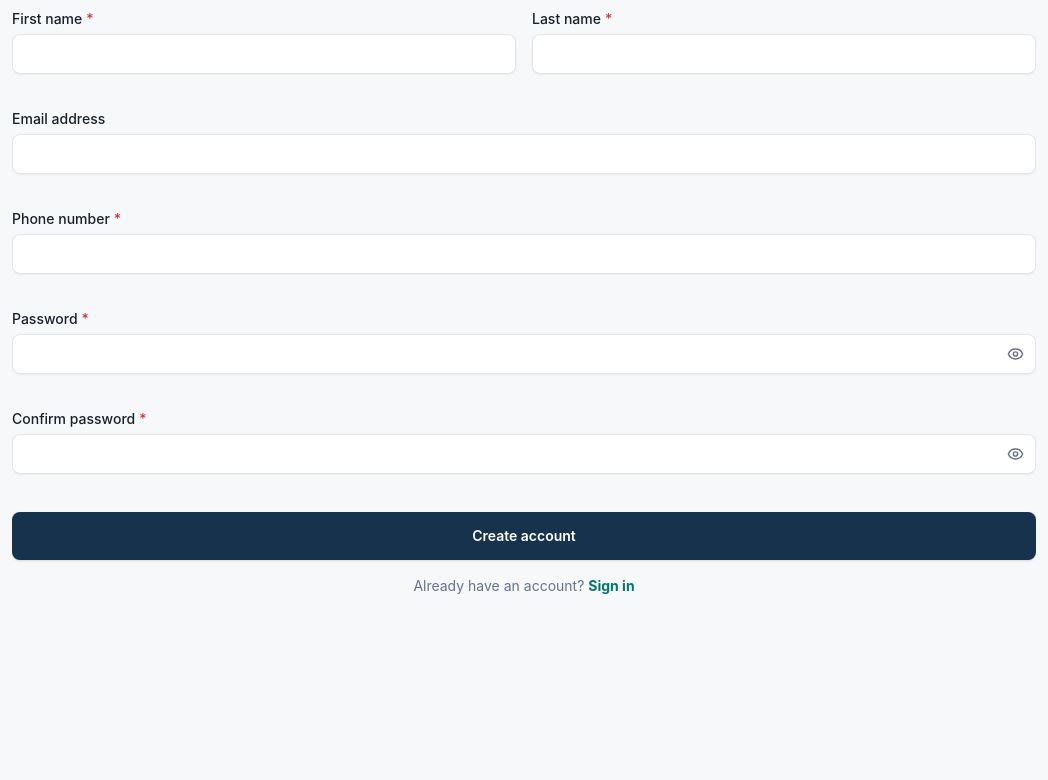
Test: AuthForm › requires matching passwords on registration
Type "SecurePass1" into the password field labelled "Password*". click: (524, 354)
box: [12,334,1036,374]
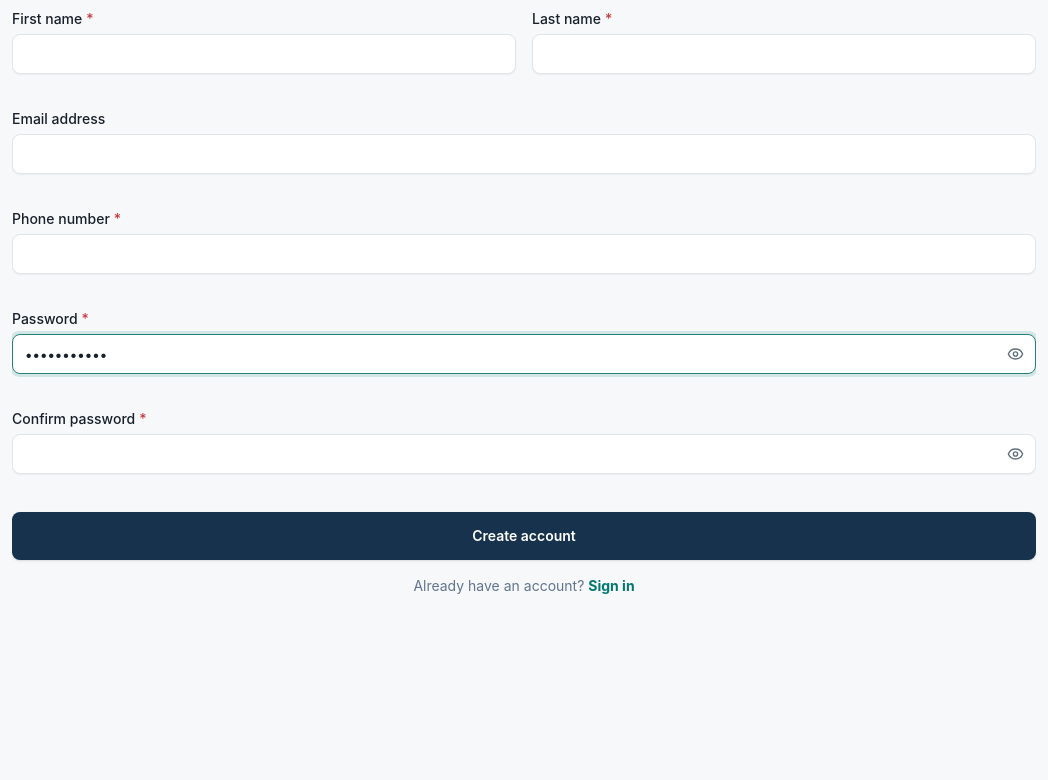
Type "Different1" into the password field labelled "Confirm password*". click: (524, 454)
box: [12,434,1036,474]
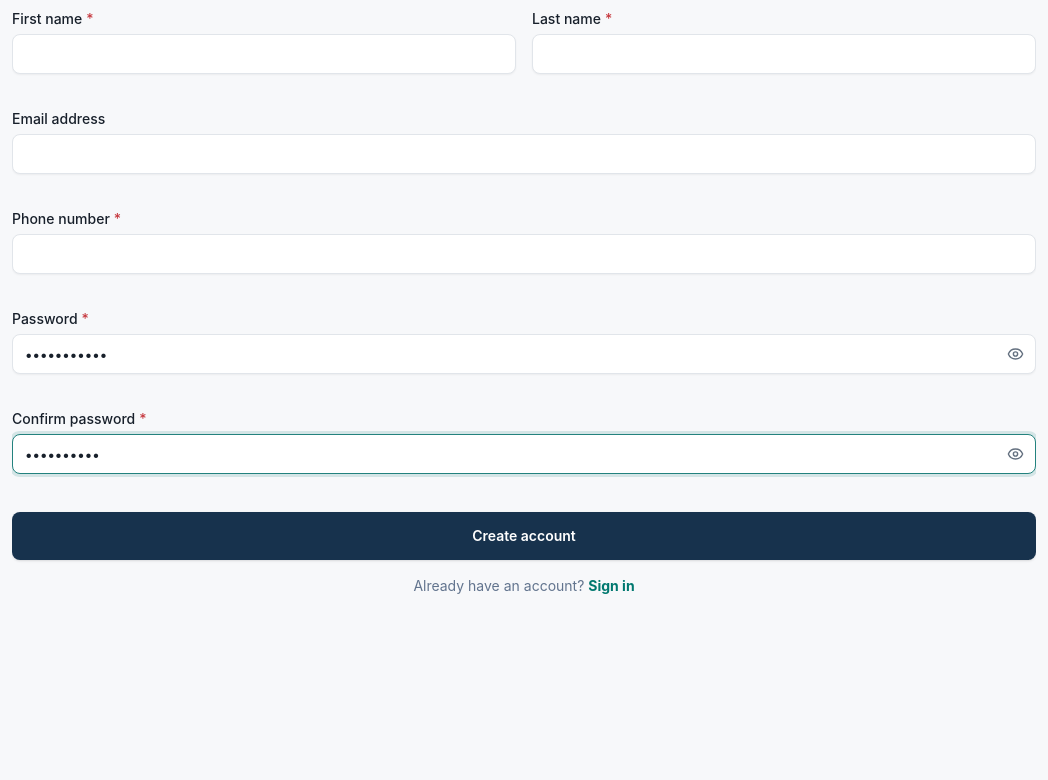
Click the button "Create account". click: (524, 536)
box: [12,512,1036,560]
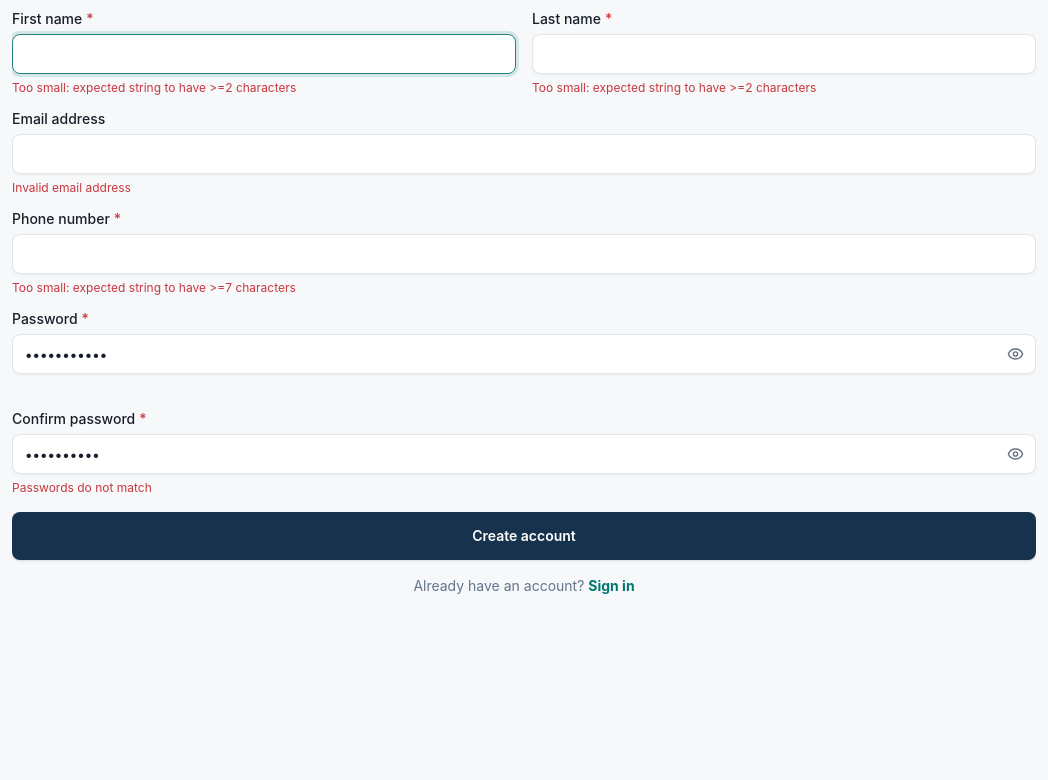
Expected: the text "Passwords do not match" is shown, [12,480,152,495]
